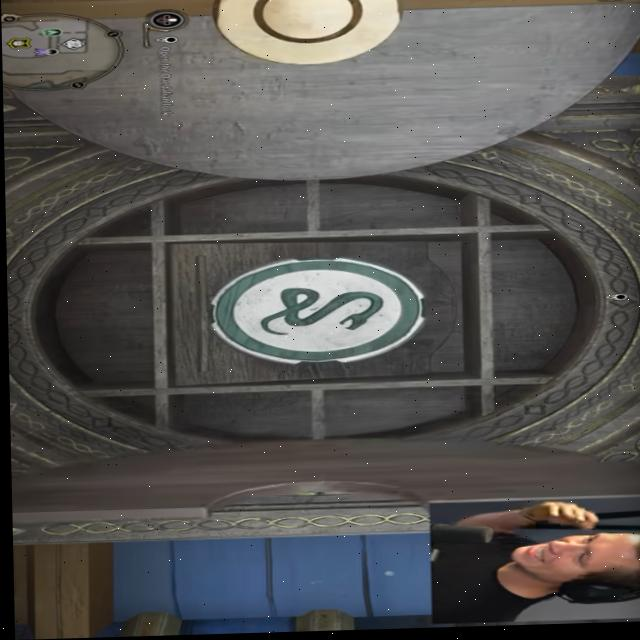compass: (31, 48, 60, 57), (600, 297, 626, 306), (152, 37, 178, 45)
